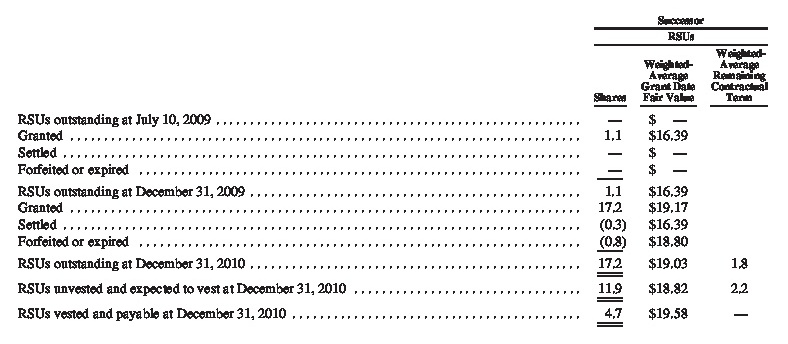table: (0, 0, 788, 344)
